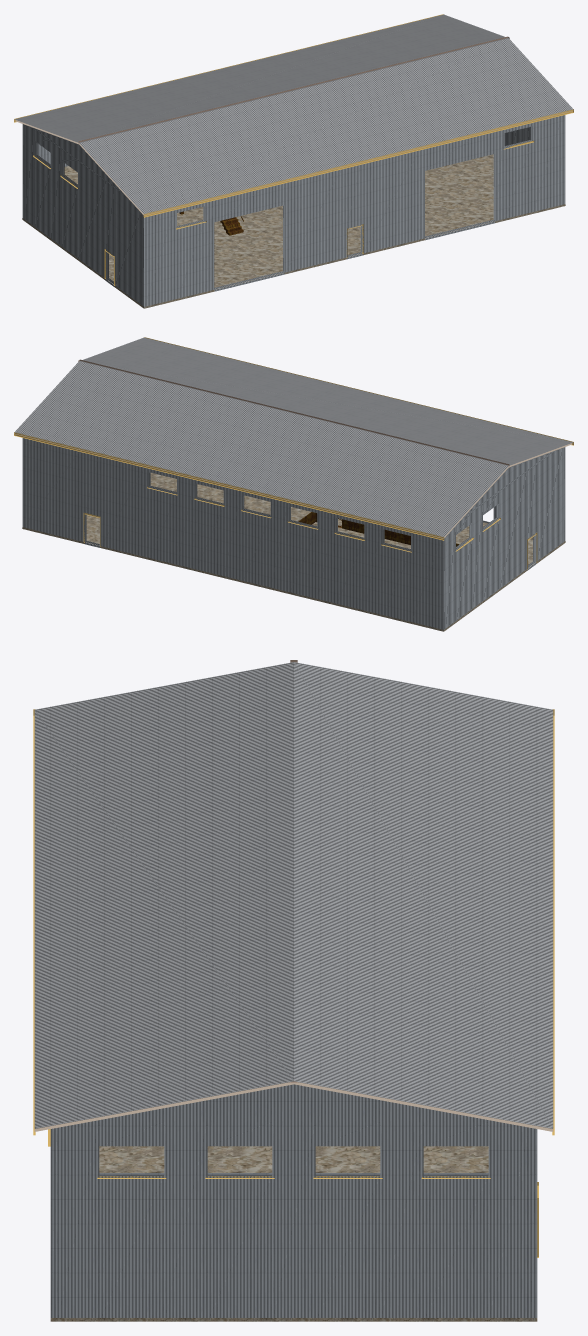
File: port-warehouse.reveal-v1.lod0.glb
The picture shows the model from 3 angles, top to bottom: view 1: azimuth 30°, elevation 25°; view 2: azimuth 150°, elevation 25°; view 3: azimuth 270°, elevation 25°; orthographic projection. The views are drawn at different scales.
Parts seen in each view (by area): view 1: port-warehouse; view 2: port-warehouse; view 3: port-warehouse.
Part boxes in pixels (x1=…): port-warehouse: x1=14, y1=14, x2=573, y2=308; port-warehouse: x1=14, y1=337, x2=573, y2=631; port-warehouse: x1=33, y1=660, x2=554, y2=1321.
Bounding box in the file's own units: 36.72 × 10.07 × 19.28.
4 materials, 3 textured.
